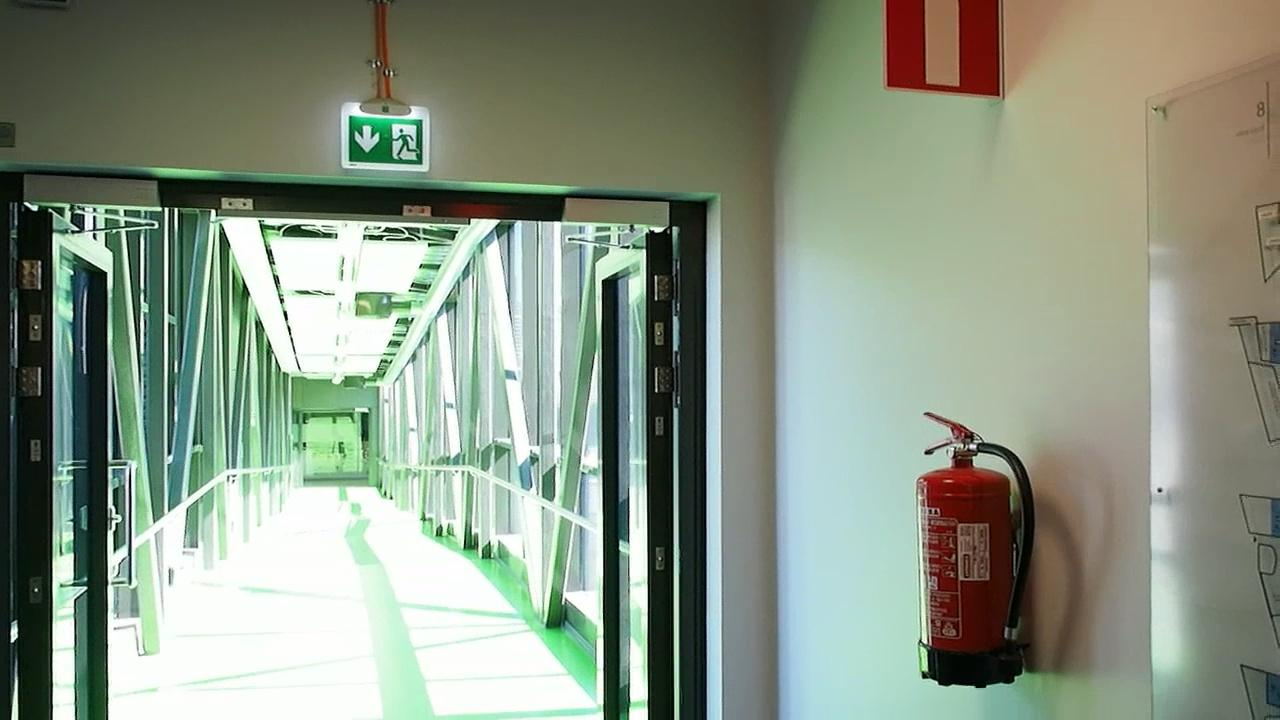exit: (344, 115, 425, 170)
fireextinguisher: (909, 408, 1031, 691), (885, 15, 1007, 88)
